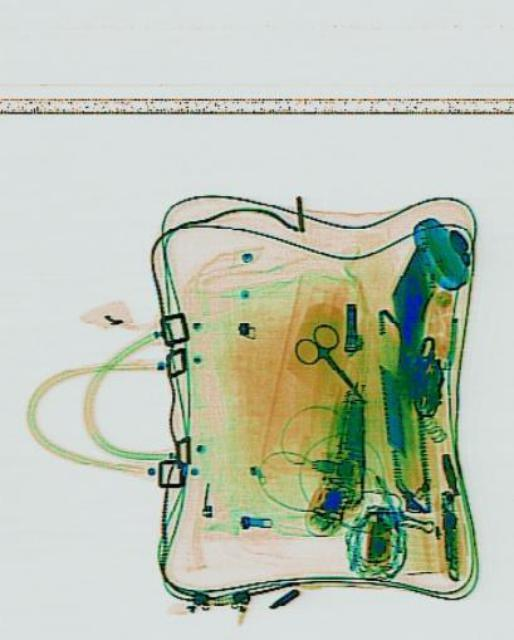Scissors: (287, 313, 371, 411)
